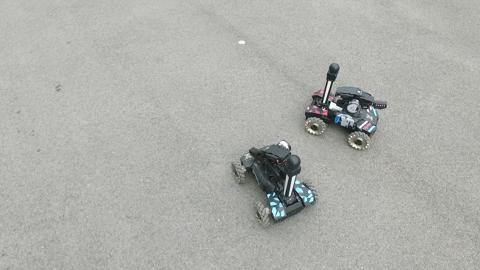chariot: (296, 56, 393, 154), (220, 139, 321, 231)
